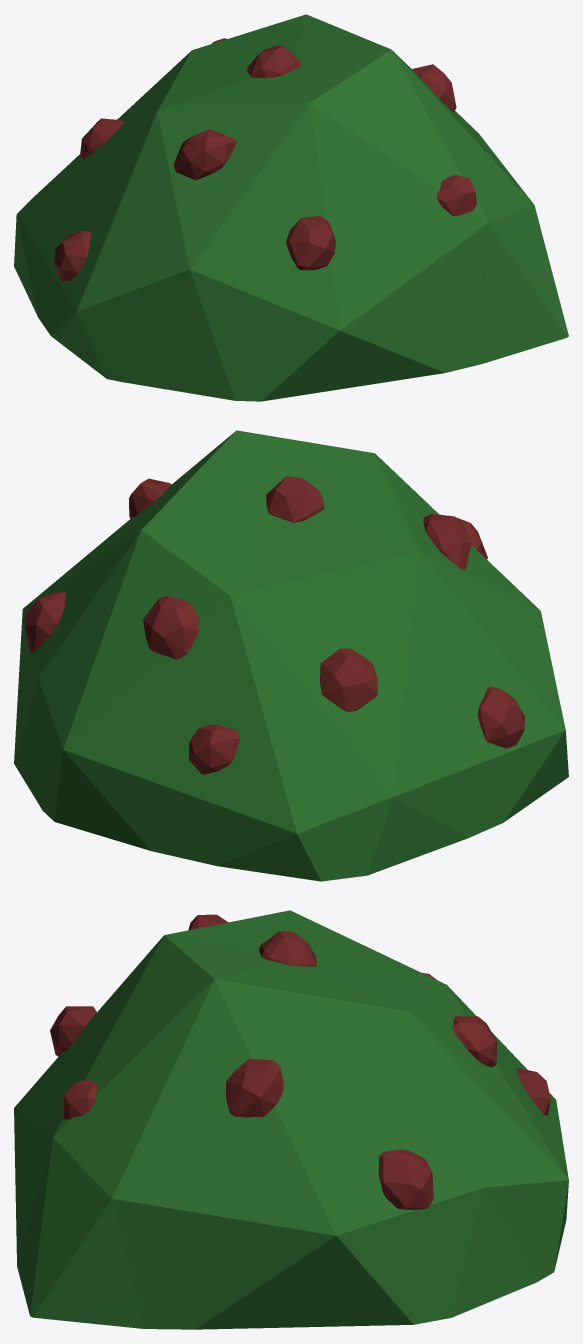
The model's file is Food.fbx.
The picture shows the model from 3 angles, top to bottom: view 1: azimuth 30°, elevation 25°; view 2: azimuth 150°, elevation 25°; view 3: azimuth 270°, elevation 25°; orthographic projection. The views are drawn at different scales.
Parts seen in each view (by area): view 1: Bush1.002; view 2: Bush1.002; view 3: Bush1.002.
Part boxes in pixels (x1=…): Bush1.002: x1=14, y1=14, x2=568, y2=401; Bush1.002: x1=14, y1=430, x2=568, y2=881; Bush1.002: x1=14, y1=910, x2=568, y2=1329.
Size of the model in its own units: 351 by 188 by 332.
